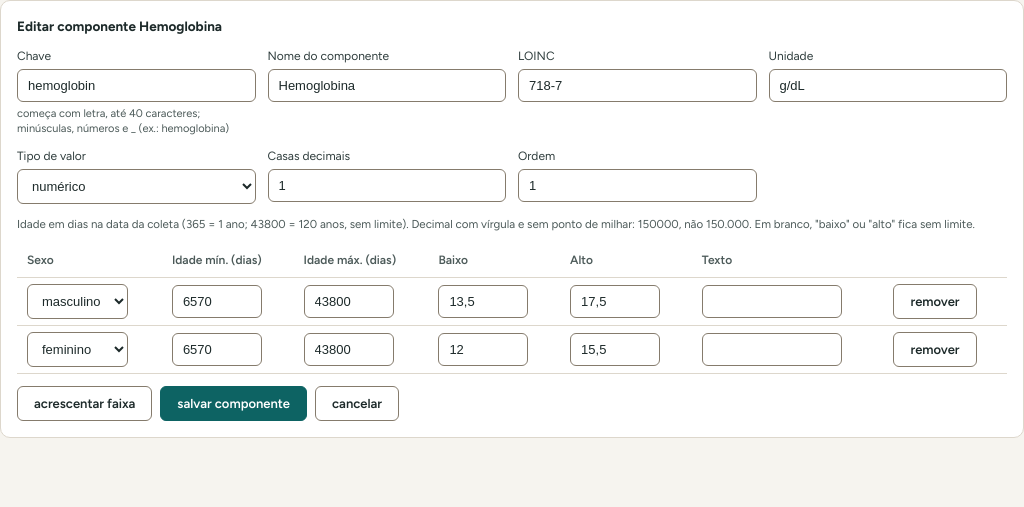
Test: LabAnalyteForm › falha de rede ao salvar: relê o catálogo
What coordinates should you click on to do the following:
click the button "salvar componente"
I would click on:
 (234, 404)
Its box is x1=160 y1=386 x2=307 y2=421.
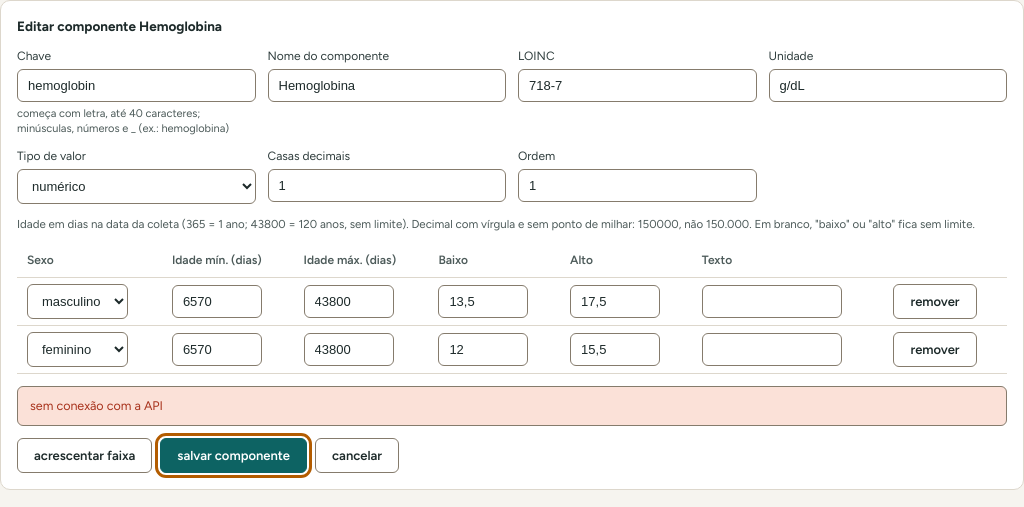
Check: the message "sem conexão com a API" is shown, box x1=17 y1=386 x2=1007 y2=426
